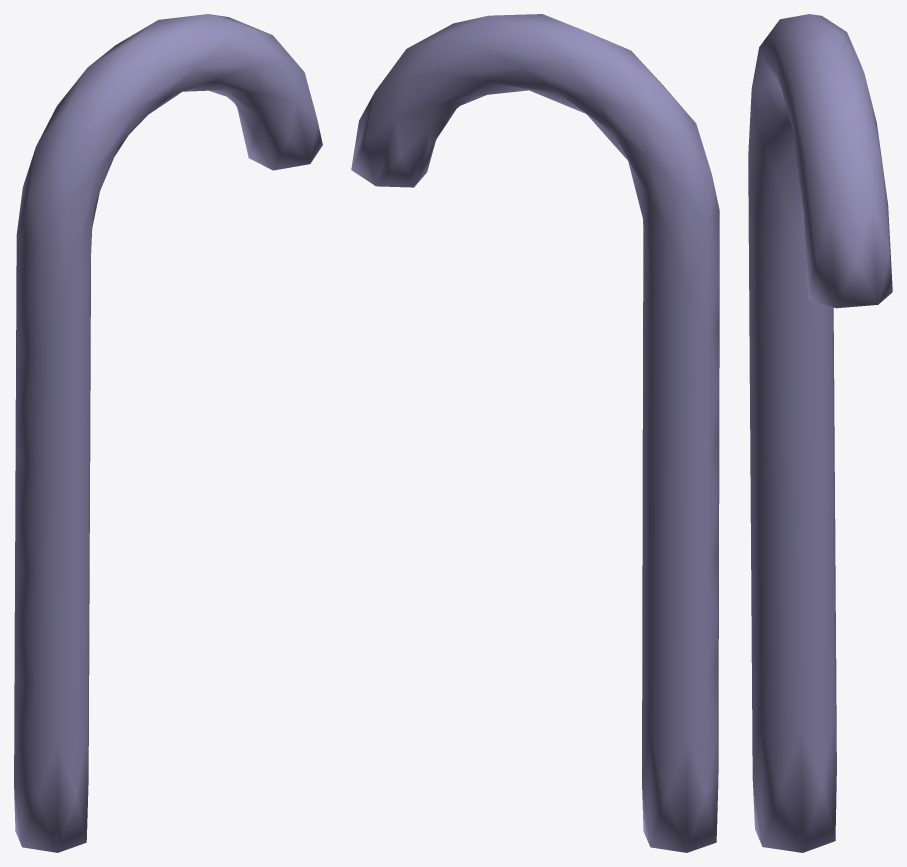
The model's file is bastonCaramelo.fbx.
3 views of the same model, side by side, from view 1: azimuth 30°, elevation 25°; view 2: azimuth 150°, elevation 25°; view 3: azimuth 270°, elevation 25° (orthographic). The views are drawn at different scales.
Visible parts, largest first — view 1: Círculo; view 2: Círculo; view 3: Círculo.
Boxes of the visible parts, box(x1,y1,x2,y2) form: Círculo: box(14, 14, 322, 852); Círculo: box(351, 14, 719, 852); Círculo: box(748, 14, 892, 852).
Size of the model in its own units: 2.45 by 5.61 by 0.844.
